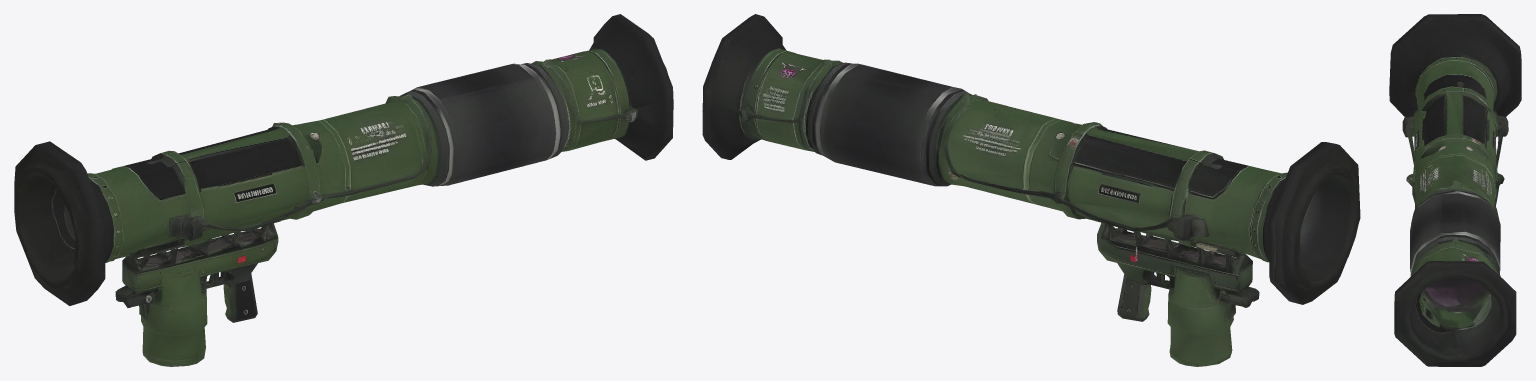
Rendered from rpg.glb.
The picture shows the model from 3 angles, left to right: view 1: azimuth 30°, elevation 25°; view 2: azimuth 150°, elevation 25°; view 3: azimuth 270°, elevation 25°; orthographic projection. The views are drawn at different scales.
Parts seen in each view (by area): view 1: Mesh_0; view 2: Mesh_0; view 3: Mesh_0.
Part boxes in pixels (box(x1,y1,x2,y2)): Mesh_0: box(14, 14, 673, 366); Mesh_0: box(702, 14, 1360, 366); Mesh_0: box(1389, 14, 1521, 366).
Bounding box in the file's own units: 1.91 × 0.6998 × 0.4354.
Materials: 1 (1 with a texture image).
